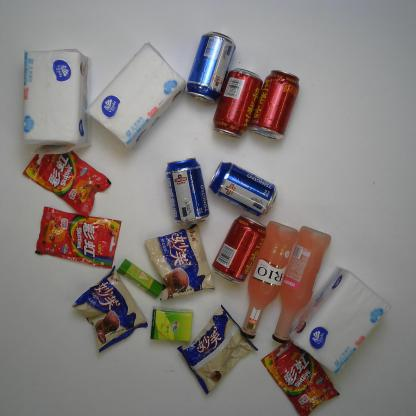Alcohol: (273, 225, 330, 342), (242, 221, 297, 340), (209, 160, 278, 217), (186, 30, 236, 100), (164, 156, 210, 226)
Candy: (25, 140, 112, 217), (263, 338, 345, 412), (35, 205, 122, 270)
Dessert: (178, 304, 262, 394), (72, 265, 148, 352), (144, 224, 215, 298)
Drink: (212, 216, 267, 282), (249, 70, 300, 140), (214, 67, 262, 138)
Stationery: (116, 260, 166, 298)
Tissue: (288, 268, 392, 374), (85, 45, 185, 147), (21, 48, 89, 155), (150, 307, 194, 341)
